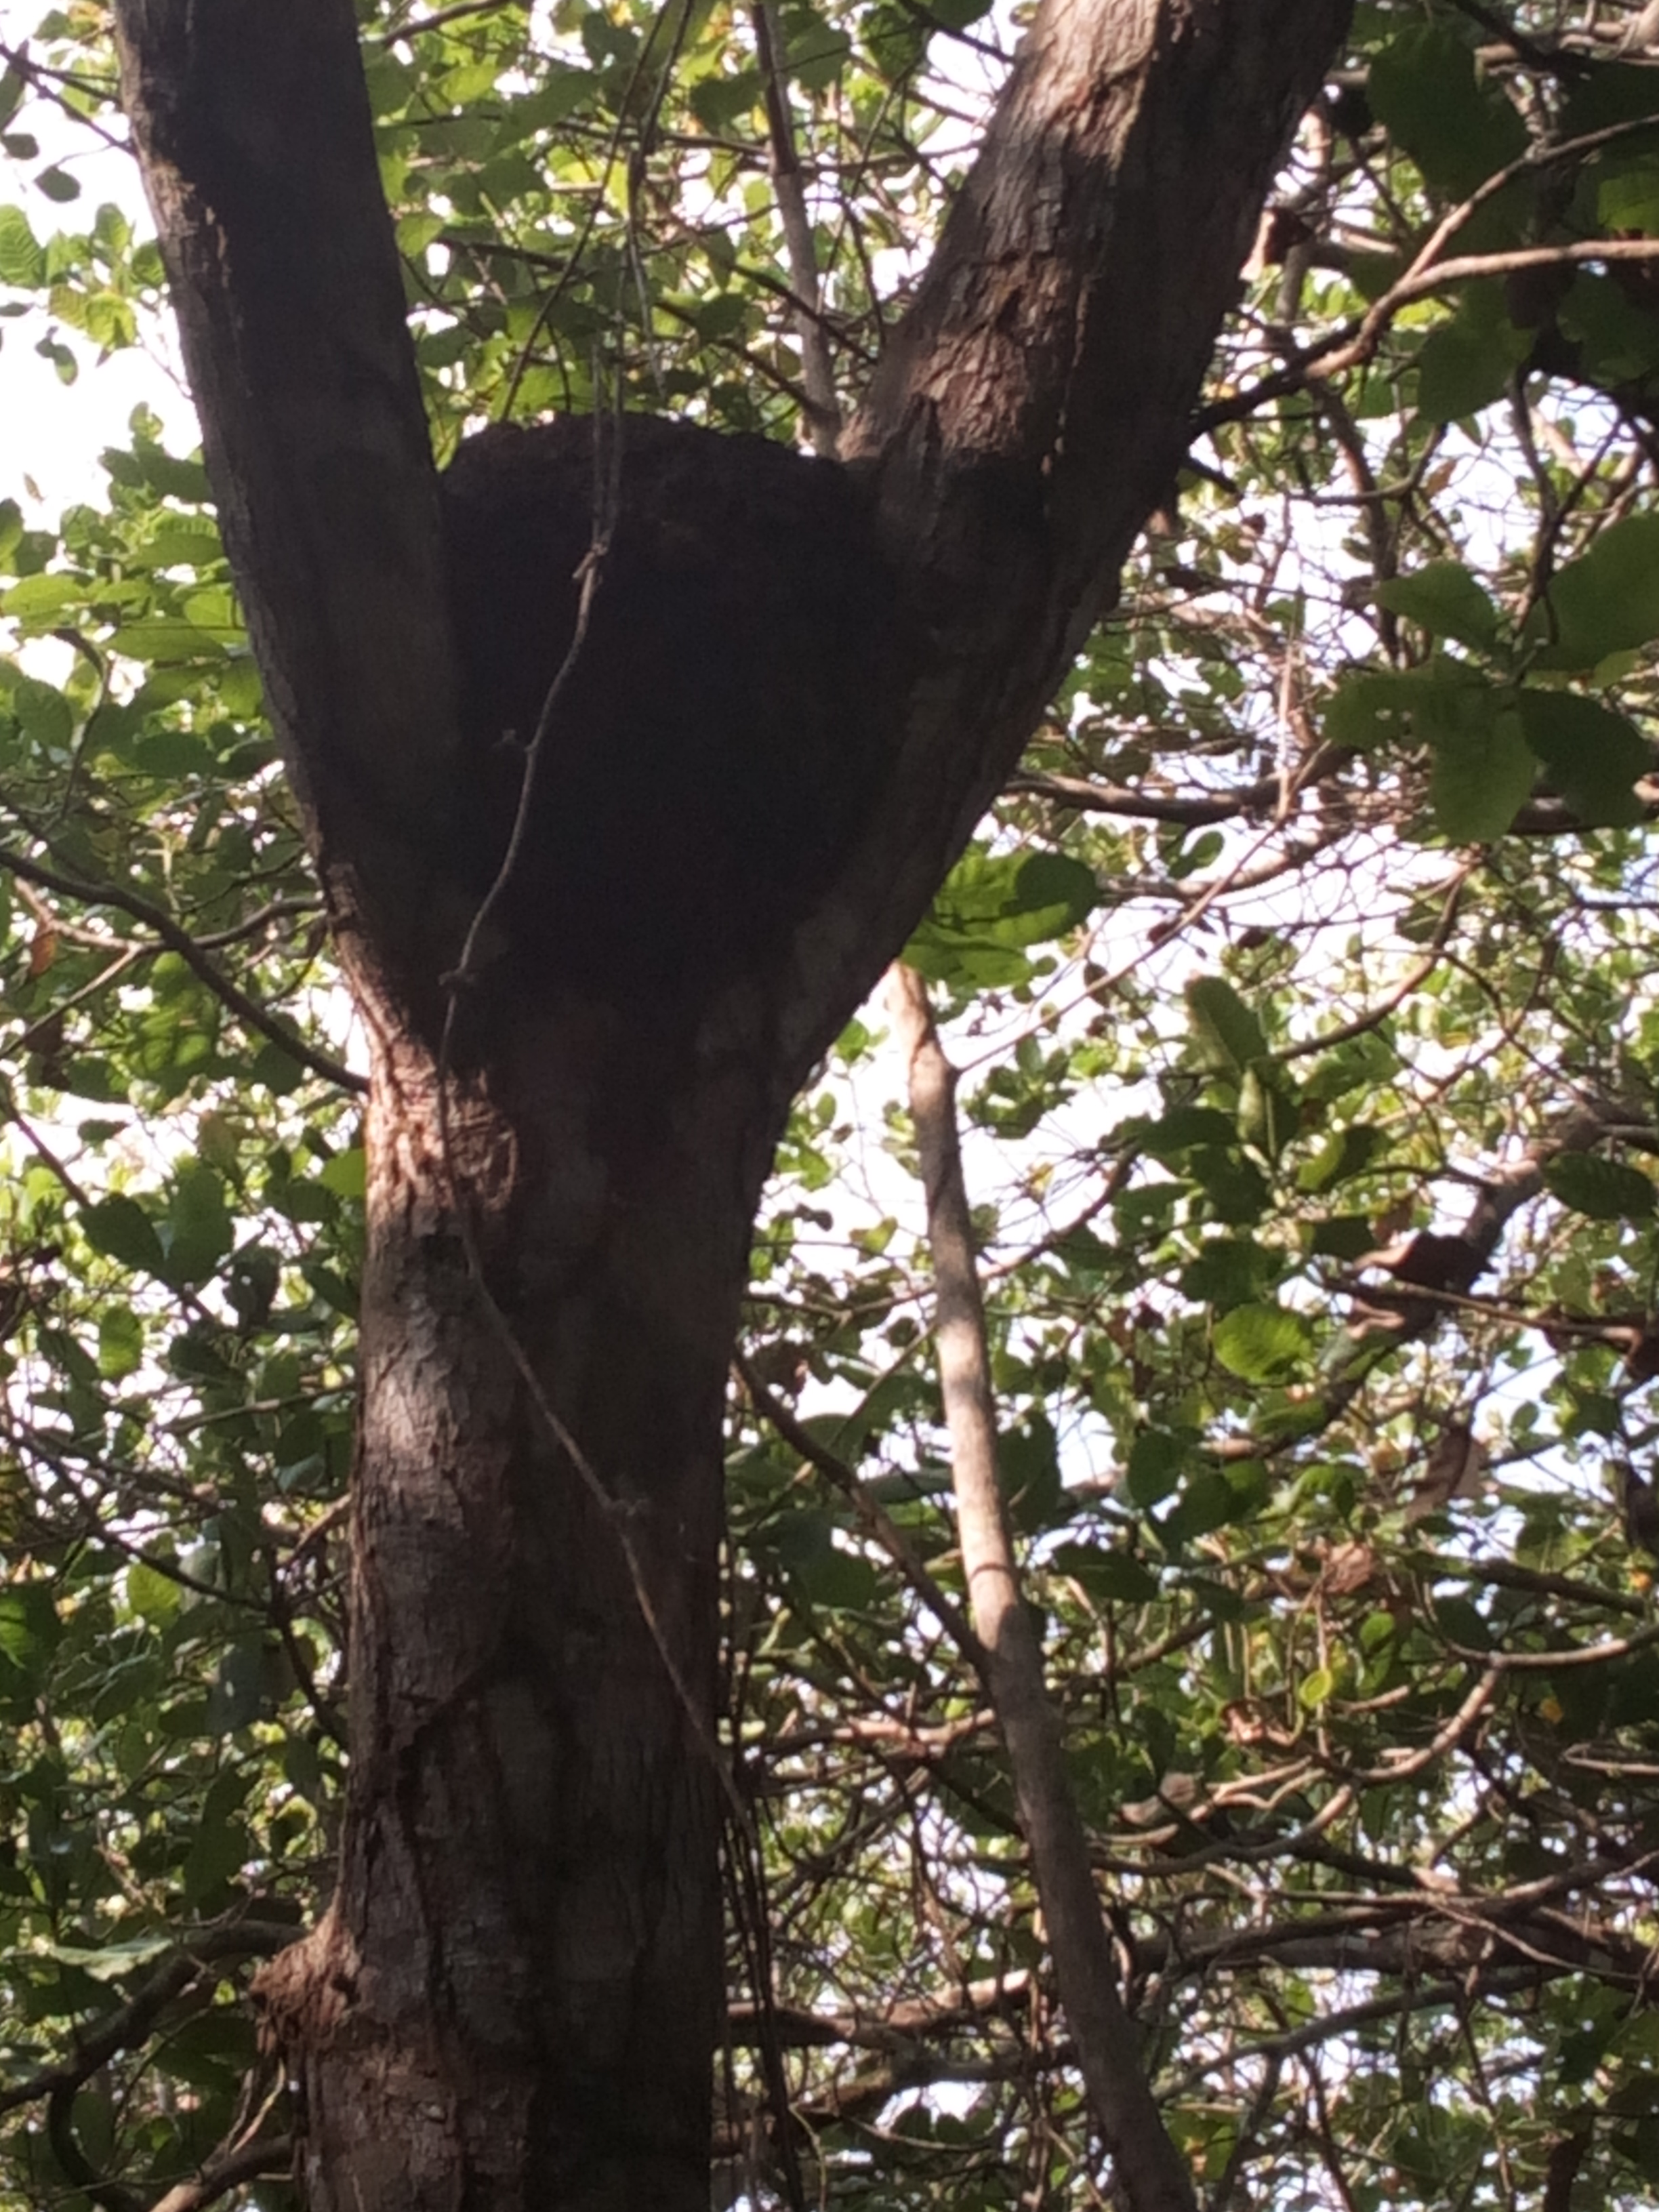Virose: (418, 390, 920, 963)
